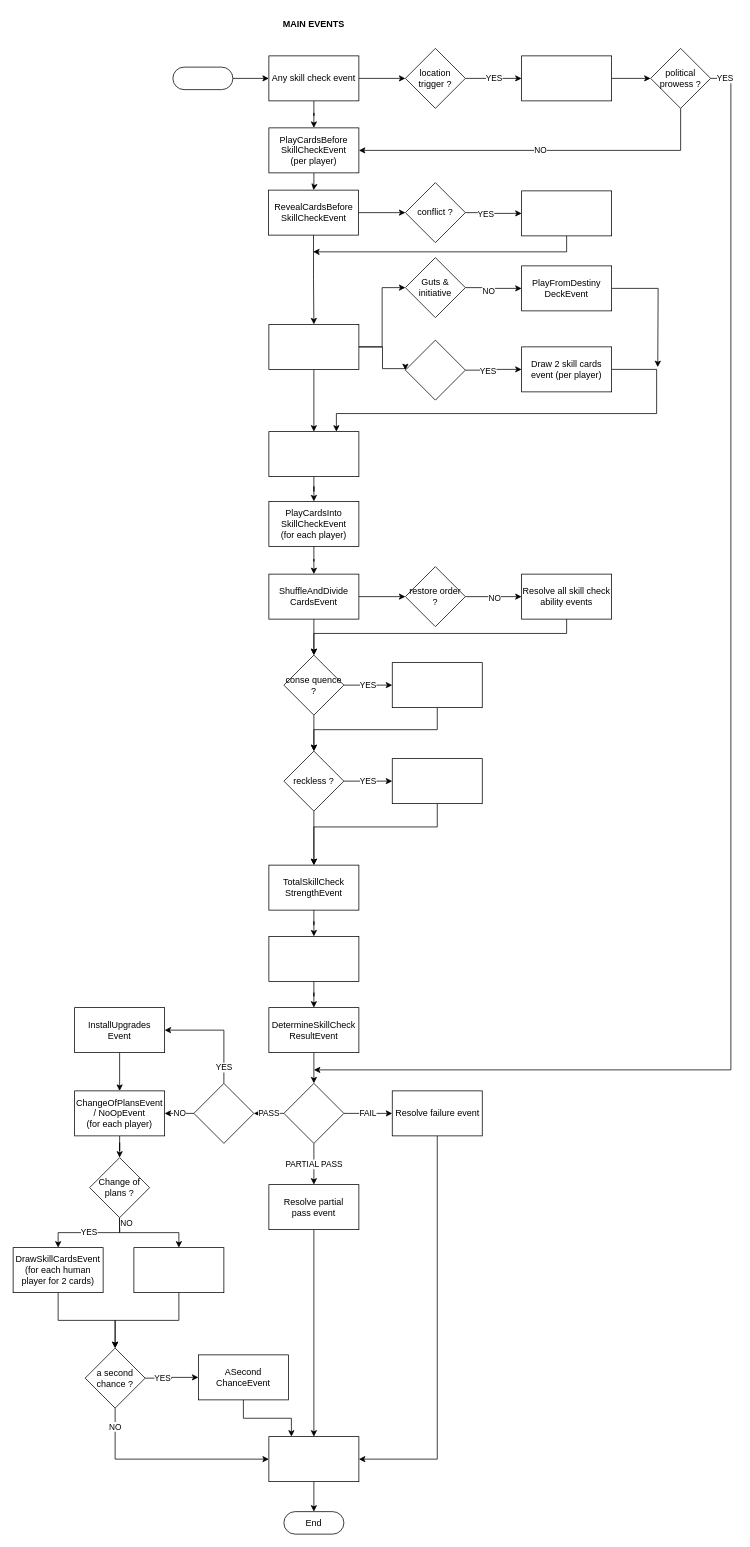
Some shapes in this 750 by 1547 pixel diagram are drawn without their labels. The shapes that lost their labels are listed below. From the top down, each one's centre as x and y in pixels, then its label:
At [202,78]: "Start".
At [566,78]: "PoliticalProwess Event (per player)".
At [566,213]: "TiebreakCardsBefore SkillCheckEvent".
At [313,346]: "ResolveCardsBefore SkillCheckEvent".
At [435,369]: "Support the ppl ?".
At [313,454]: "All before skill check events".
At [437,685]: "Resolve crisis' consequence".
At [437,781]: "DrawAndResolve RecklessCardsEvent".
At [313,958]: "DeclareEmergency Event / NoOpEvent (for each player)".
At [223,1113]: "install upgrades ?".
At [313,1113]: "Result ?".
At [178,1270]: "Resolve passed event".
At [313,1459]: "EndSkillCheckEvent (discard cards remove activeSkillCheck)".
